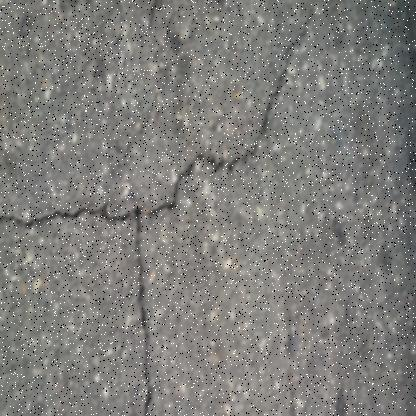Cracks: (0, 9, 313, 235), (124, 192, 159, 416)
